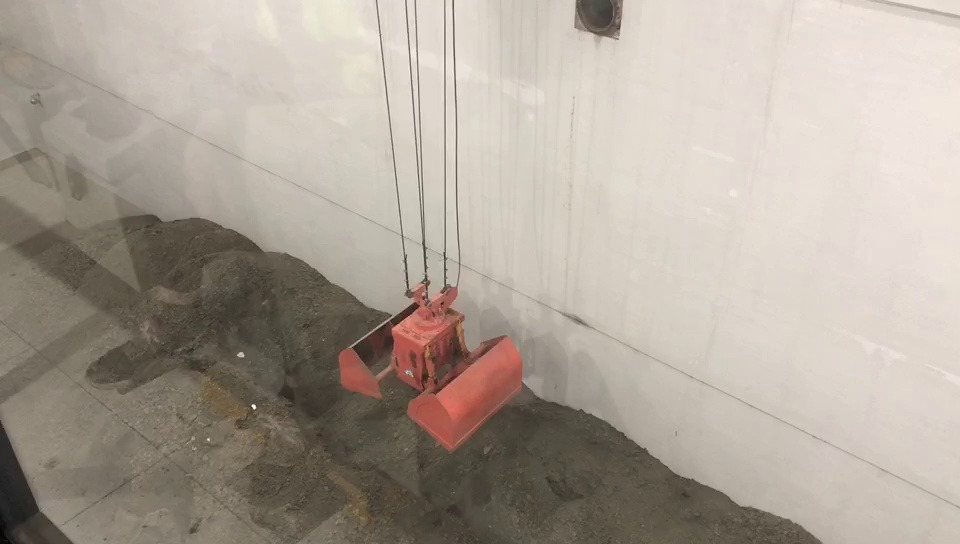grab: (334, 276, 526, 454)
